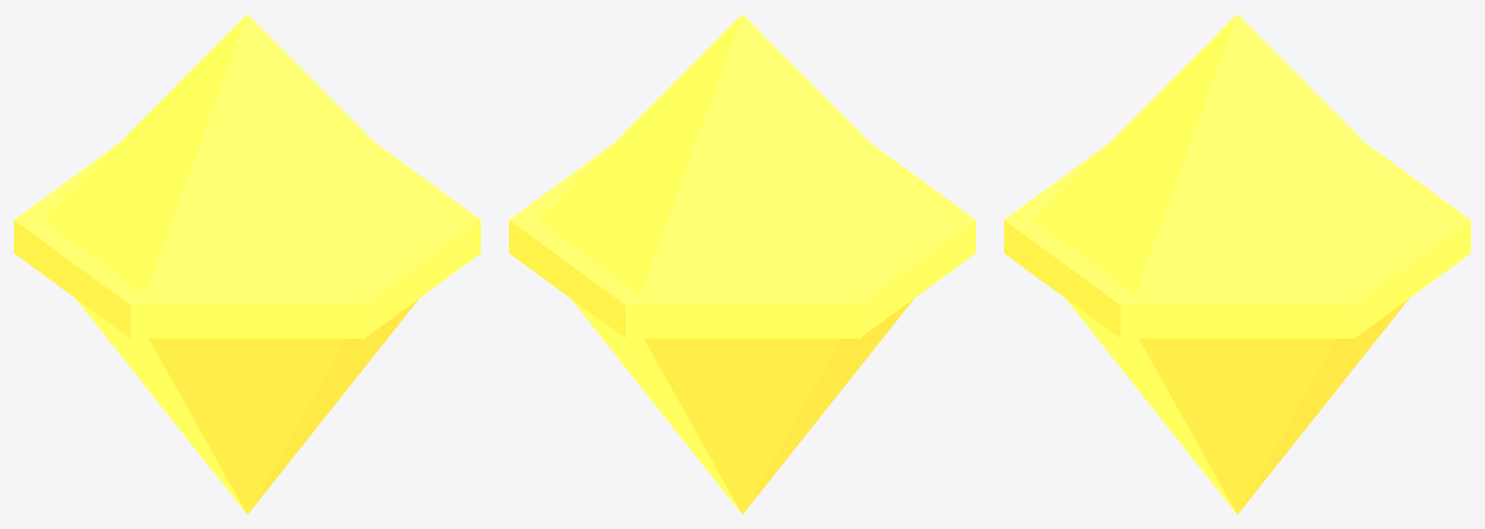
Rendered from collectible-gem.glb.
3 views of the same model, side by side, from view 1: azimuth 30°, elevation 25°; view 2: azimuth 150°, elevation 25°; view 3: azimuth 270°, elevation 25° (orthographic).
Parts seen in each view (by area): view 1: Coll_Gem_Top, Coll_Gem_Bottom, Coll_Gem_Band; view 2: Coll_Gem_Top, Coll_Gem_Bottom, Coll_Gem_Band; view 3: Coll_Gem_Top, Coll_Gem_Bottom, Coll_Gem_Band.
Boxes of the visible parts, bbox=[...] form: Coll_Gem_Top: bbox=[43, 14, 451, 294]; Coll_Gem_Bottom: bbox=[76, 299, 418, 514]; Coll_Gem_Band: bbox=[14, 143, 480, 338]; Coll_Gem_Top: bbox=[538, 14, 946, 294]; Coll_Gem_Bottom: bbox=[571, 299, 913, 514]; Coll_Gem_Band: bbox=[509, 143, 975, 338]; Coll_Gem_Top: bbox=[1033, 14, 1441, 294]; Coll_Gem_Bottom: bbox=[1066, 299, 1408, 514]; Coll_Gem_Band: bbox=[1004, 143, 1470, 338].
Size of the model in its own units: 0.3291 by 0.45 by 0.38.
